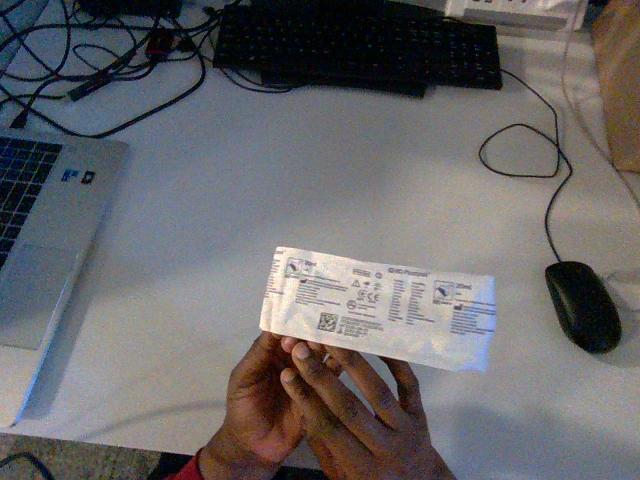syringe: (260, 247, 495, 371)
